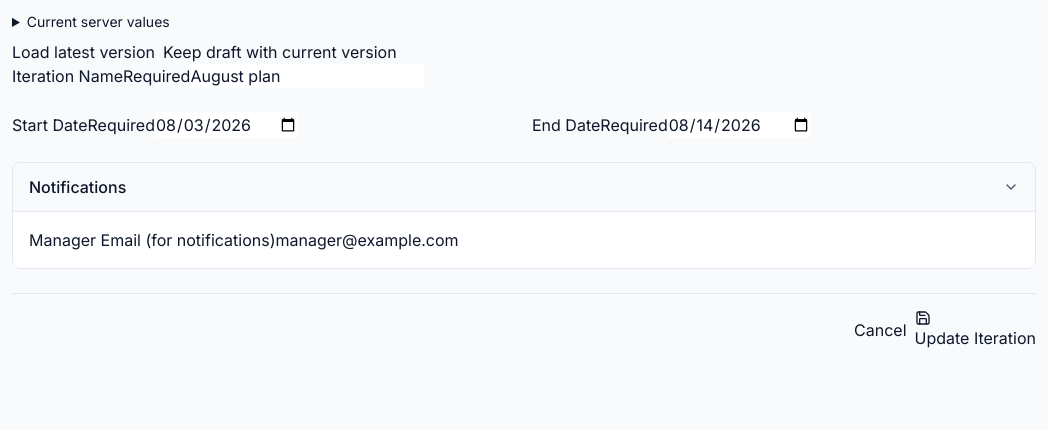
Test case: IterationForm hardening › announces mutation failures without discarding the draft
Step 1. Replace the text in the field labelled "Iteration Name" with "Still here after failure" → coordinates (307, 76), box [190,64,424,88]
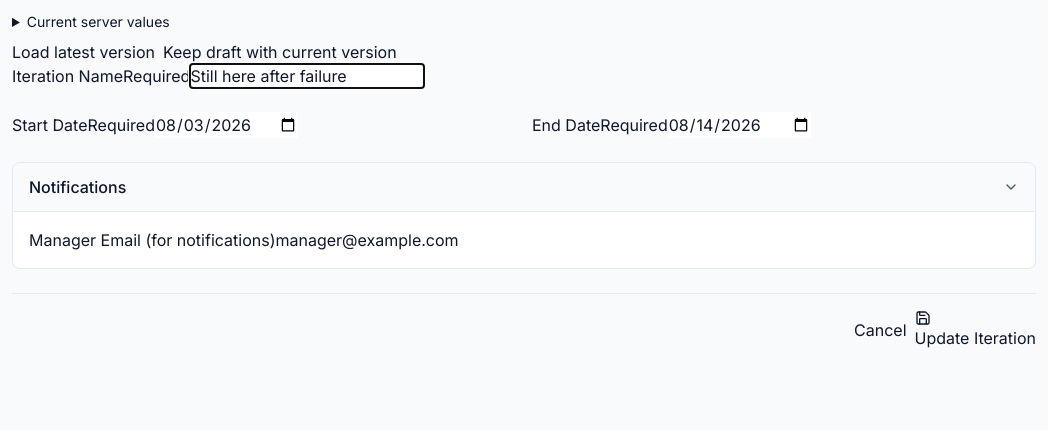
Step 2. Click the button "Update Iteration" → coordinates (975, 330), box [914,310,1036,350]
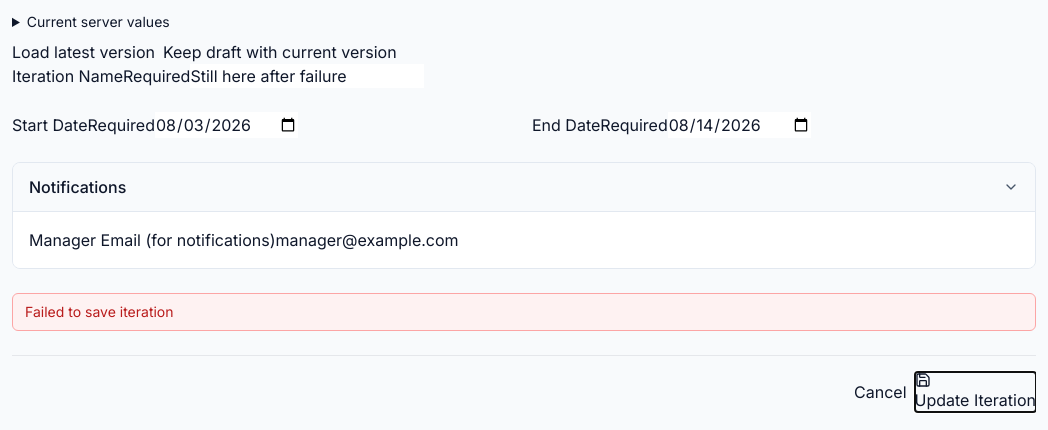
Expected: the field labelled "Iteration Name" is enabled, [190,64,424,88]
Result: the message reads "Failed to save iteration" at [25,303,174,320]
